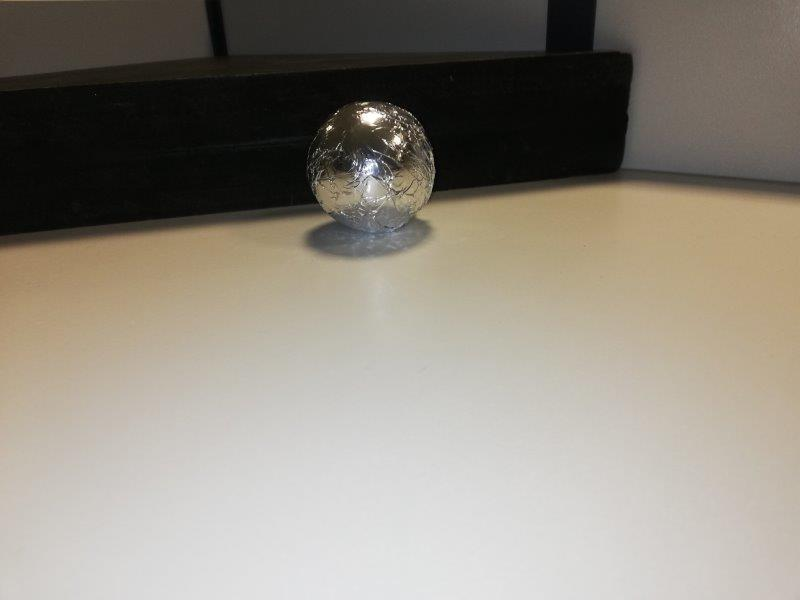bianca: (308, 100, 437, 232)
